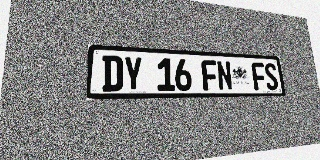1: (157, 58, 175, 91)
6: (174, 59, 192, 91)
D: (102, 55, 123, 91)
F: (201, 60, 218, 91), (251, 62, 267, 90)
N: (216, 61, 233, 91)
S: (264, 63, 279, 90)
Y: (123, 56, 143, 91)
